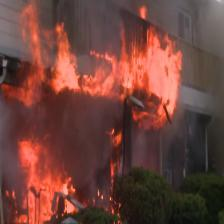fire: (4, 0, 195, 224)
